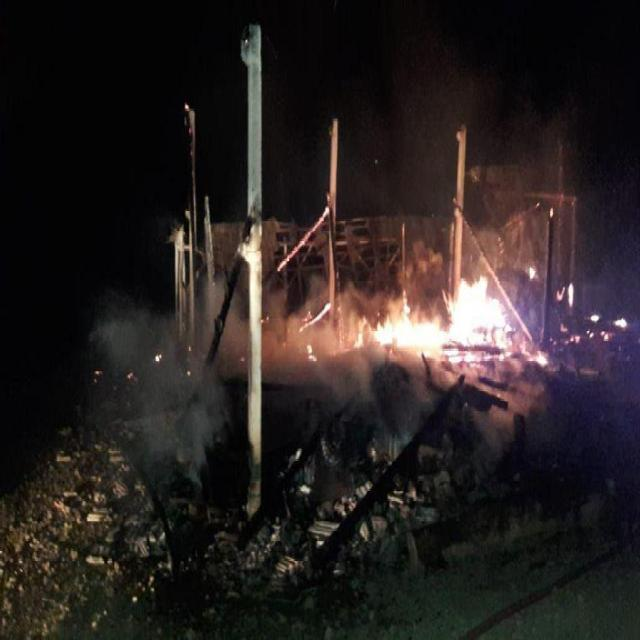Fire: (356, 270, 510, 361), (527, 343, 549, 367)
